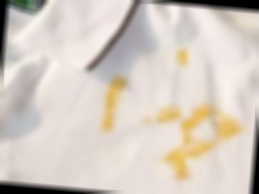mustard: (100, 73, 123, 133), (164, 149, 191, 184), (150, 108, 183, 131), (187, 141, 226, 160), (215, 115, 244, 139), (187, 104, 214, 126), (177, 127, 199, 153), (173, 44, 192, 74)
